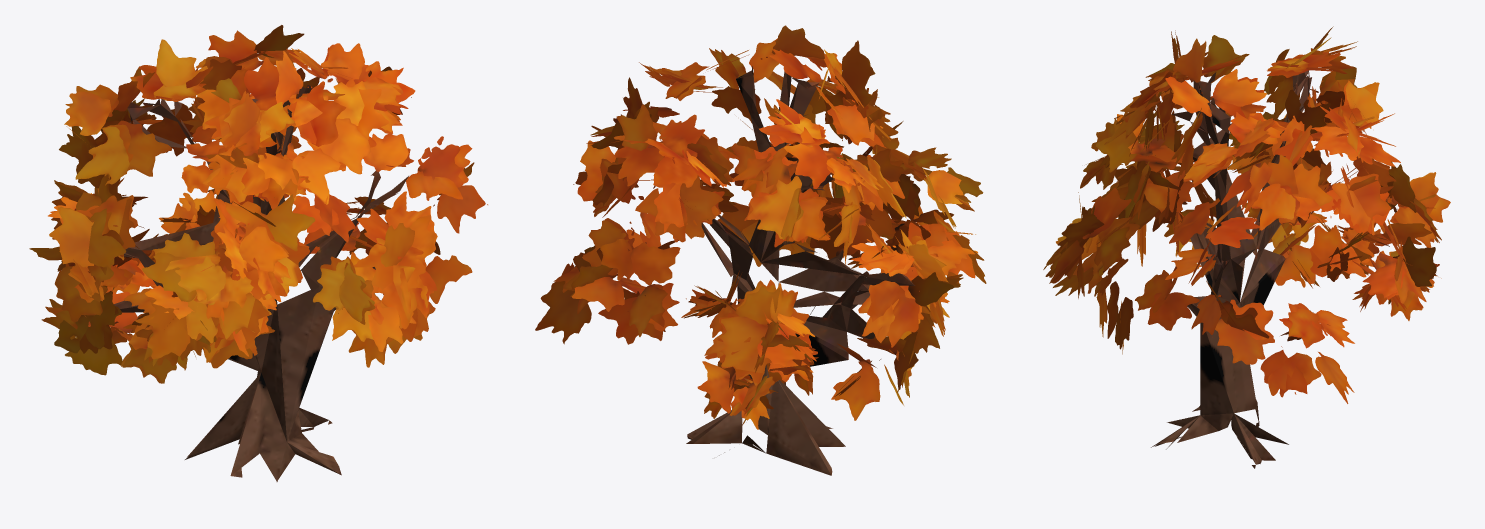
The model's file is turuncu_agac_lod2.glb.
3 views of the same model, side by side, from view 1: azimuth 30°, elevation 25°; view 2: azimuth 150°, elevation 25°; view 3: azimuth 270°, elevation 25° (orthographic). The views are drawn at different scales.
Visible parts, largest first — view 1: turuncu_agac_lod2; view 2: turuncu_agac_lod2; view 3: turuncu_agac_lod2.
Boxes of the visible parts, box(x1,y1,x2,y2) form: turuncu_agac_lod2: box(29, 25, 487, 481); turuncu_agac_lod2: box(535, 25, 986, 475); turuncu_agac_lod2: box(1043, 26, 1450, 468).
Bounding box in the file's own units: 5.33 × 4.91 × 4.87.
Materials: 2 (2 with a texture image).
